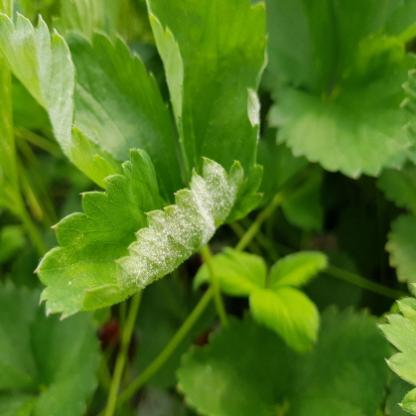Strawberry_Powdery_Mildew_Leaf: (34, 148, 244, 324), (0, 11, 189, 202)
